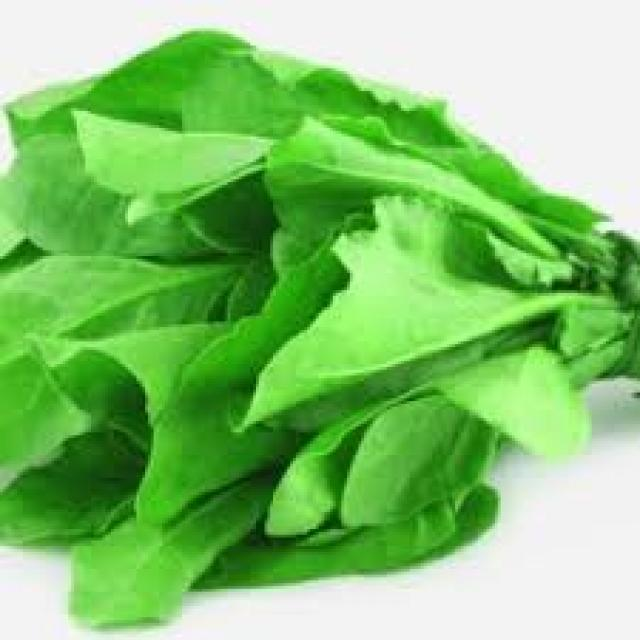organic waste: (0, 20, 637, 626)
